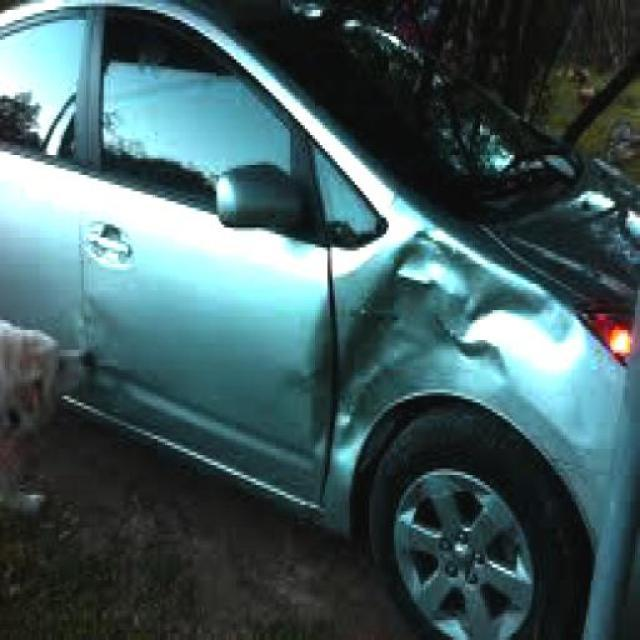Car-Damage: (307, 222, 607, 499)
